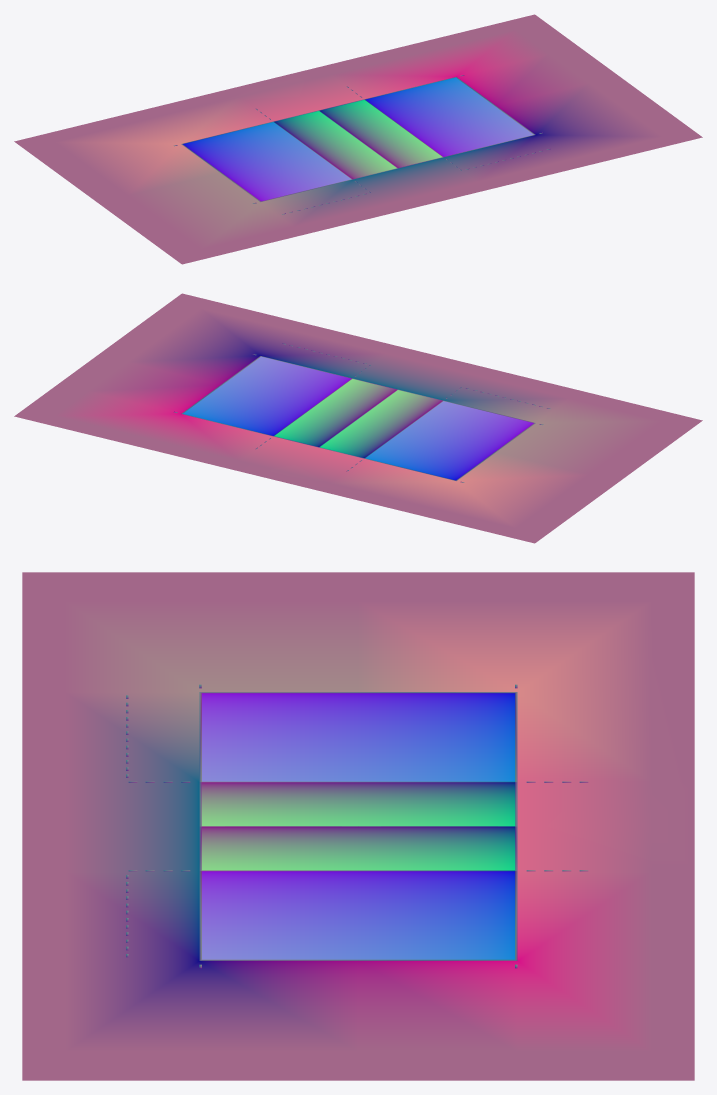
The model's file is SM_Ground_VolleyCourt.gltf.
3 views of the same model, one above another, from view 1: azimuth 30°, elevation 25°; view 2: azimuth 150°, elevation 25°; view 3: azimuth 270°, elevation 25° (orthographic). The views are drawn at different scales.
Visible parts, largest first — view 1: SM_Ground_VolleyCourt; view 2: SM_Ground_VolleyCourt; view 3: SM_Ground_VolleyCourt.
Boxes of the visible parts, box(x1,y1,x2,y2) form: SM_Ground_VolleyCourt: box(14, 14, 702, 264); SM_Ground_VolleyCourt: box(14, 293, 702, 543); SM_Ground_VolleyCourt: box(22, 572, 694, 1080).
Bounding box in the file's own units: 34 × 0.0007 × 19.
